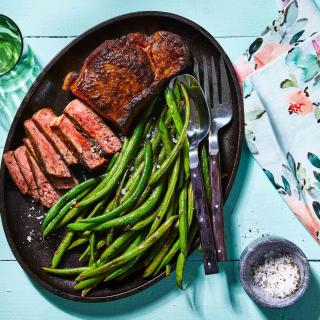meat: (70, 25, 134, 127), (6, 106, 119, 159), (134, 29, 188, 88), (0, 157, 93, 181), (19, 181, 58, 205)
steak: (2, 7, 242, 312)
veg: (134, 89, 193, 282), (93, 160, 135, 290), (59, 182, 97, 294), (43, 206, 60, 274), (122, 130, 133, 158)
